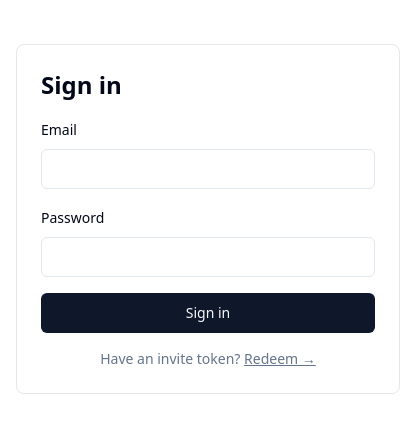
Test: Login form › rejects empty email
This screenshot has width=417, height=439.
Click the button "Sign in" at (208, 313), box top-left (41, 293), bottom-right (375, 333)
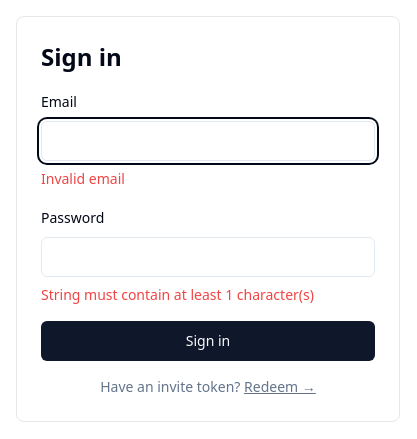
Expected: the text "Invalid email" is shown, top-left (41, 169), bottom-right (125, 188)
